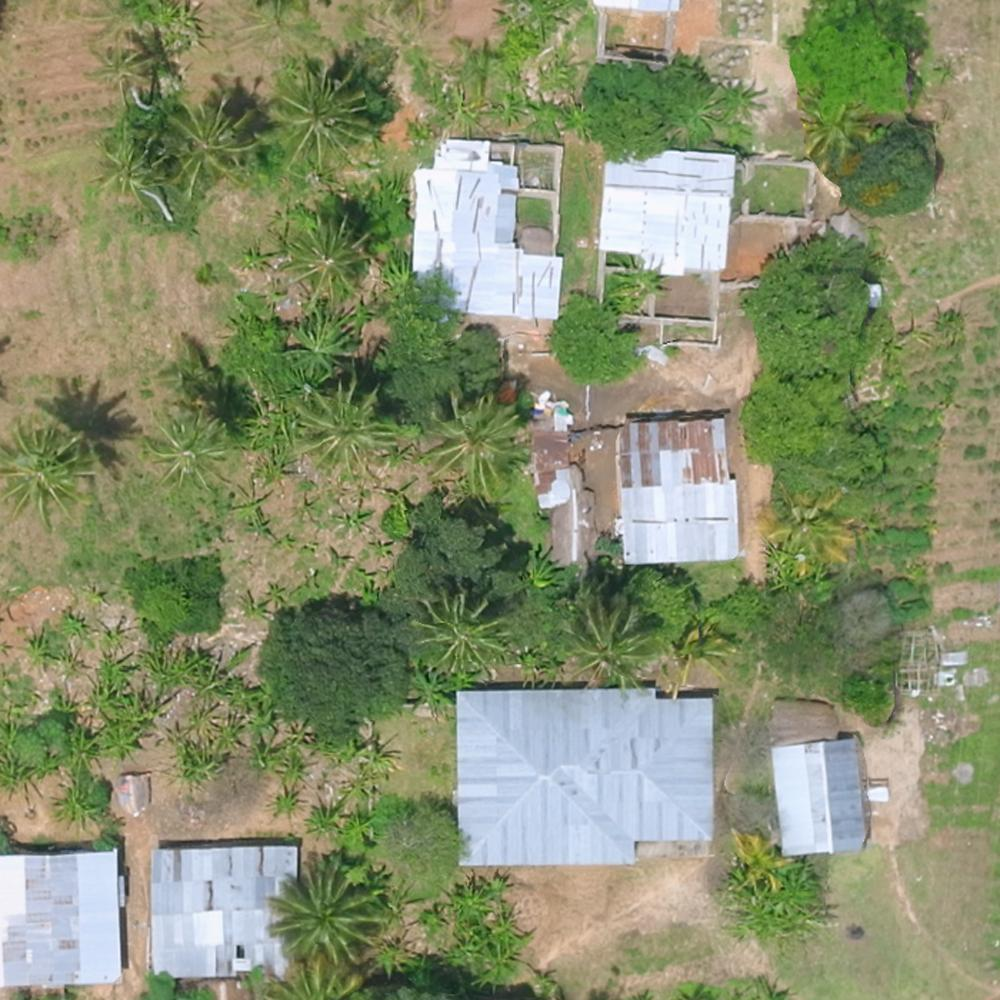Palm: (268, 856, 382, 962), (264, 65, 366, 171), (293, 383, 400, 476), (425, 394, 522, 490), (1, 424, 93, 524), (563, 596, 661, 680), (415, 590, 510, 671), (147, 411, 233, 494), (171, 99, 254, 184), (286, 216, 365, 298)
